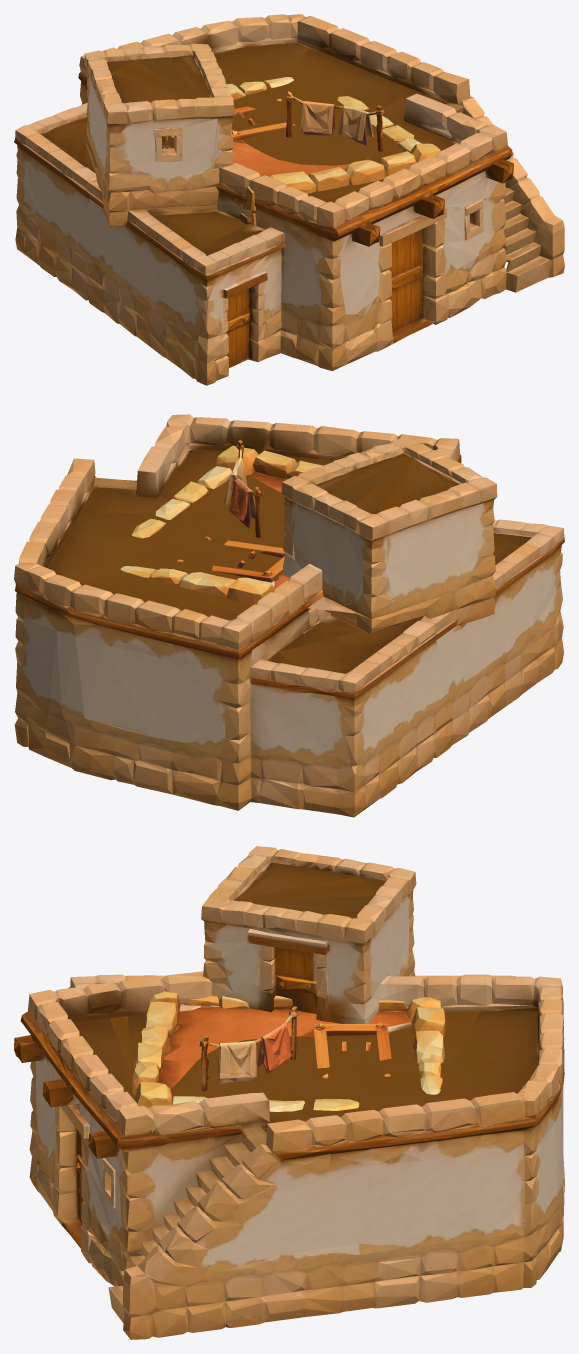
The model's file is casas_betfage.glb.
The picture shows the model from 3 angles, top to bottom: view 1: azimuth 30°, elevation 25°; view 2: azimuth 150°, elevation 25°; view 3: azimuth 270°, elevation 25°; orthographic projection. The views are drawn at different scales.
Parts seen in each view (by area): view 1: Casa_Sobrado, Casa_Varal; view 2: Casa_Sobrado, Casa_Varal; view 3: Casa_Sobrado, Casa_Varal.
Part boxes in pixels (bbox=[...]): Casa_Sobrado: bbox=[14, 14, 564, 385]; Casa_Varal: bbox=[161, 77, 440, 244]; Casa_Sobrado: bbox=[14, 414, 564, 817]; Casa_Varal: bbox=[120, 440, 323, 604]; Casa_Sobrado: bbox=[14, 846, 564, 1339]; Casa_Varal: bbox=[132, 991, 445, 1111].
Bounding box in the file's own units: 6.96 × 3.69 × 6.94.
Materials: 4 (4 with a texture image).
